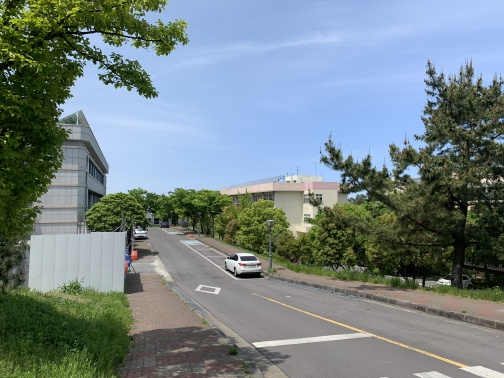College Of Education: (225, 169, 351, 235)
